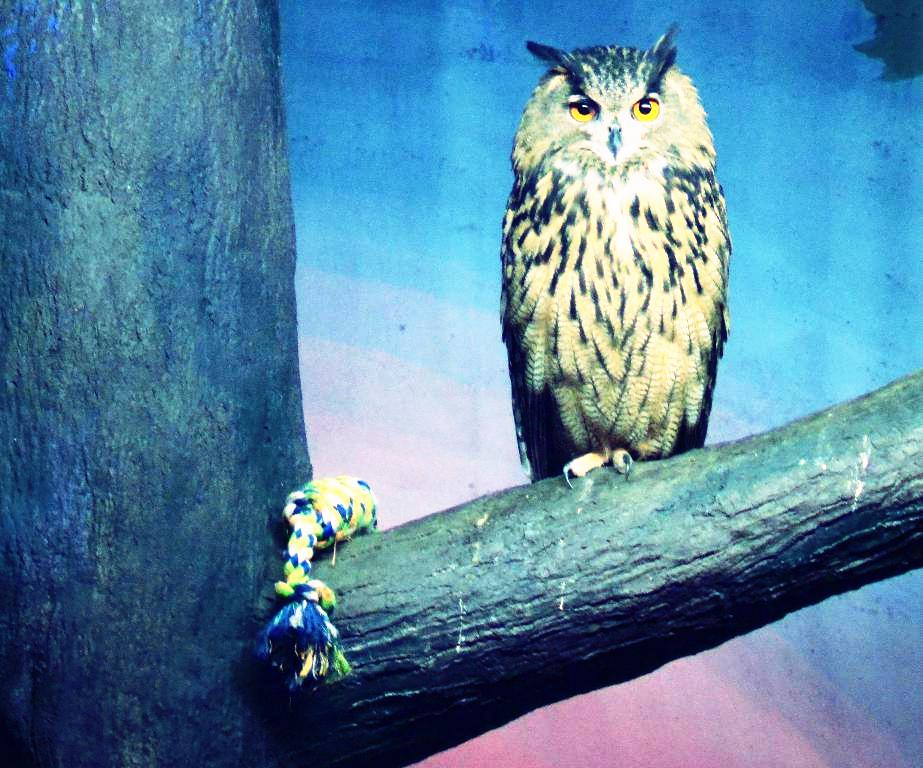Owl: (514, 24, 737, 480)
